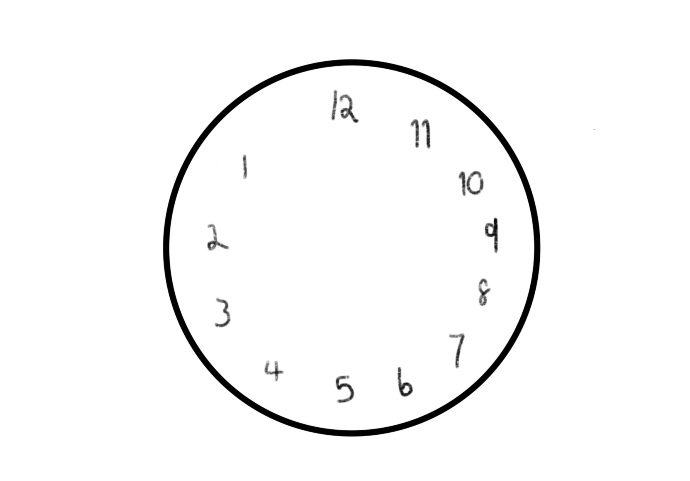eight: (476, 273, 491, 307)
eleven: (406, 116, 434, 152)
five: (333, 372, 359, 408)
four: (263, 351, 287, 385)
nine: (479, 217, 502, 254)
one: (237, 147, 251, 180)
seven: (445, 326, 469, 370)
six: (391, 357, 419, 401)
ten: (457, 164, 484, 201)
three: (212, 291, 234, 328)
twelve: (329, 87, 357, 126)
two: (202, 220, 232, 253)
